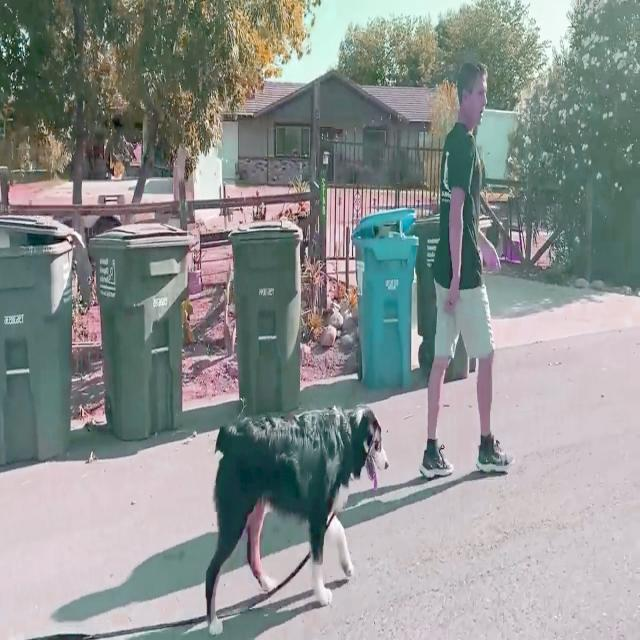Unleashed_Dog: (206, 282, 484, 638)
